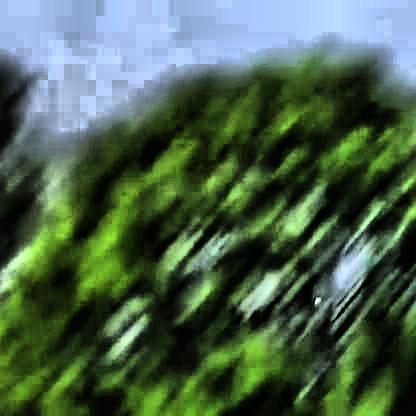golfball: (310, 291, 317, 301)
